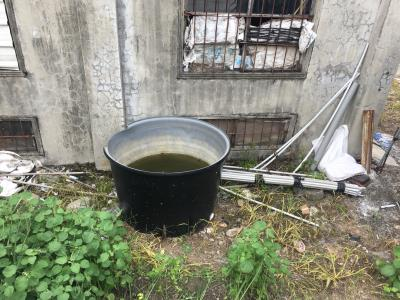bucket: (102, 114, 234, 243)
plastic_bag: (319, 126, 363, 181)
